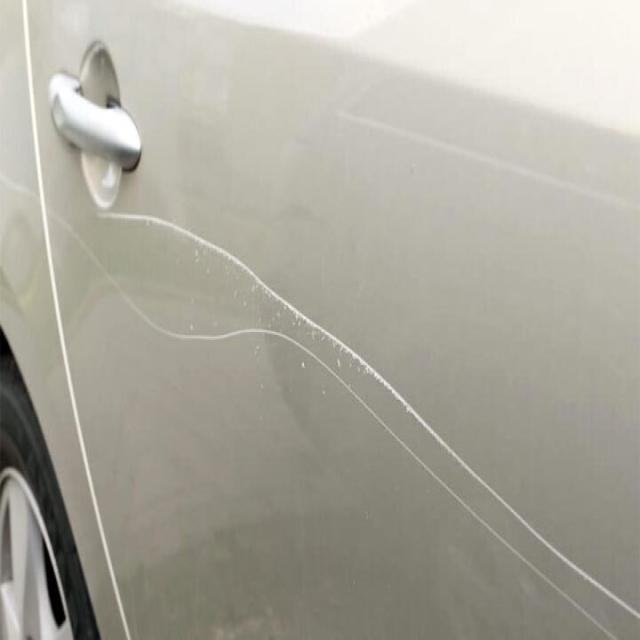paint-trace: (0, 154, 640, 638)
